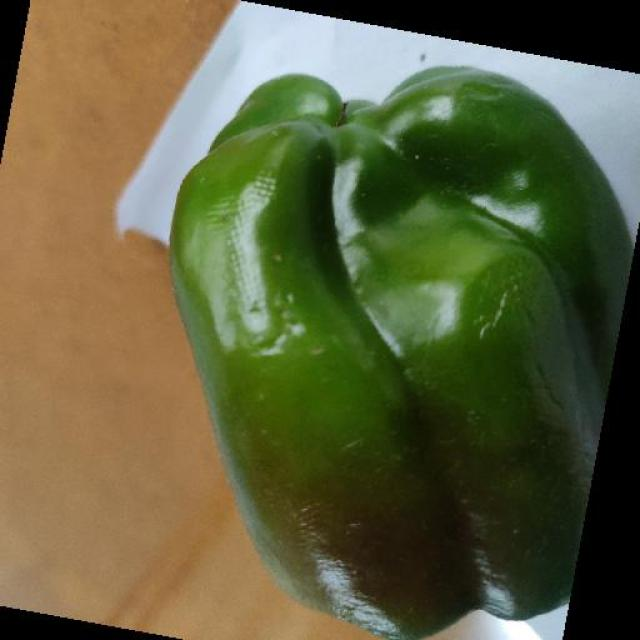Stale_Capsicum: (179, 54, 615, 640)
